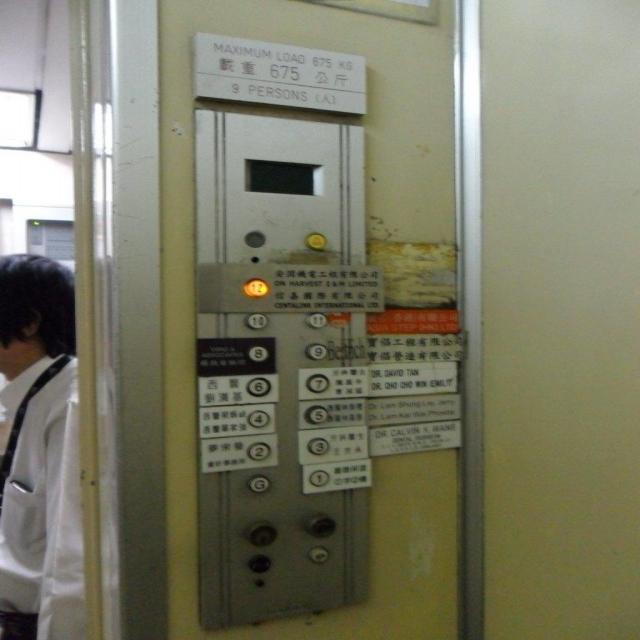1: (308, 469, 329, 487)
10: (244, 312, 267, 330)
11: (302, 312, 326, 329)
12: (242, 278, 268, 298)
2: (245, 440, 271, 460)
3: (305, 436, 328, 455)
4: (246, 408, 271, 428)
5: (302, 404, 328, 424)
6: (246, 376, 271, 396)
7: (305, 372, 328, 392)
8: (247, 345, 268, 363)
9: (304, 342, 328, 360)
G: (244, 474, 270, 492)
alarm: (304, 232, 327, 250)
blur: (301, 510, 338, 540), (245, 552, 273, 574), (243, 230, 265, 248)
keyhole: (240, 519, 278, 548)
led: (242, 157, 320, 197)
open: (306, 546, 330, 563)
